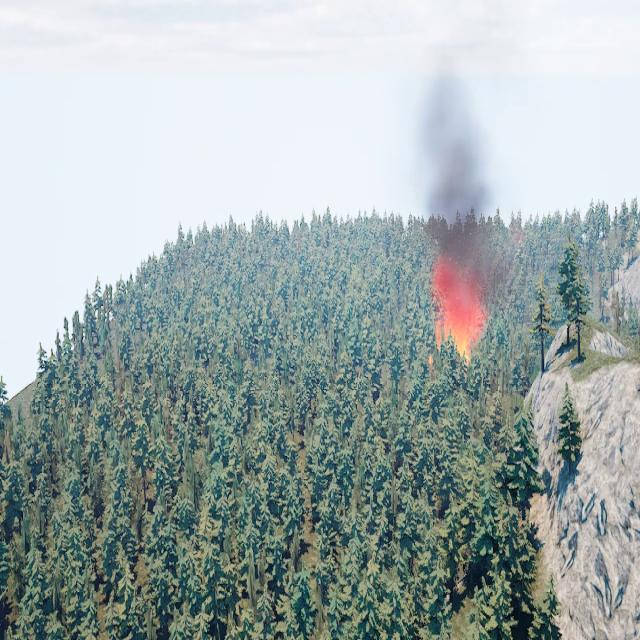fire: (432, 313, 472, 368)
smoke: (412, 71, 517, 337)
